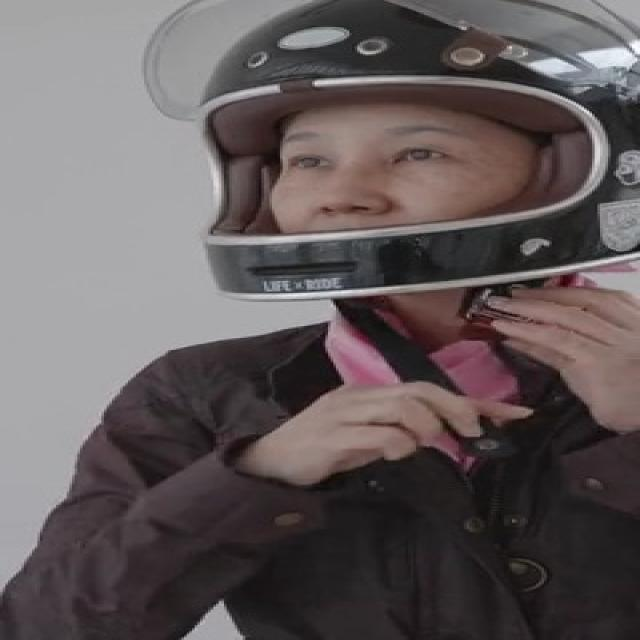Helmet_Wearer: (141, 0, 640, 320)
Person: (17, 0, 640, 640)
